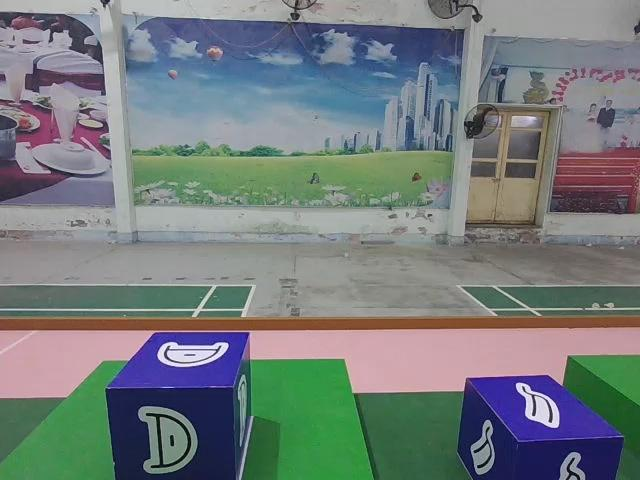R2 Real Blue: (105, 333, 253, 480), (460, 376, 625, 480)
